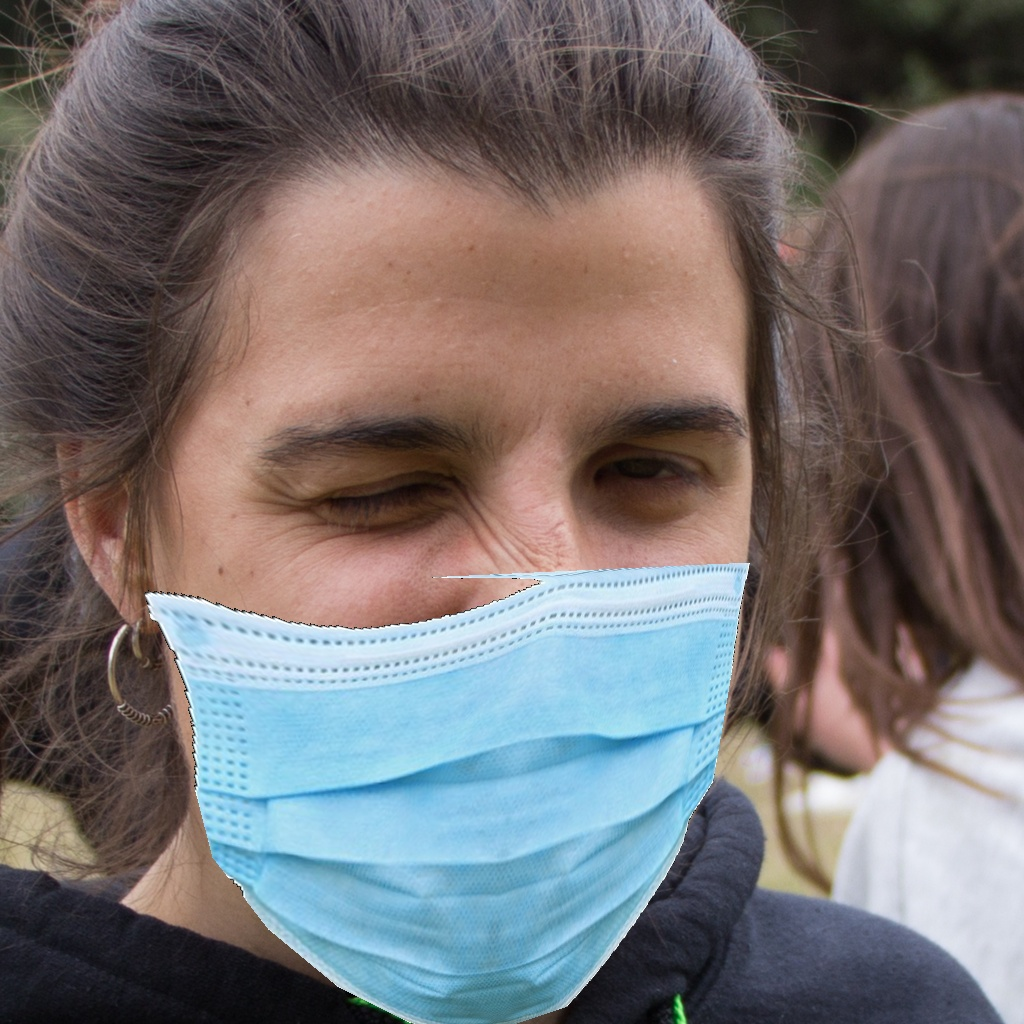Mask: (146, 334, 752, 1024)
